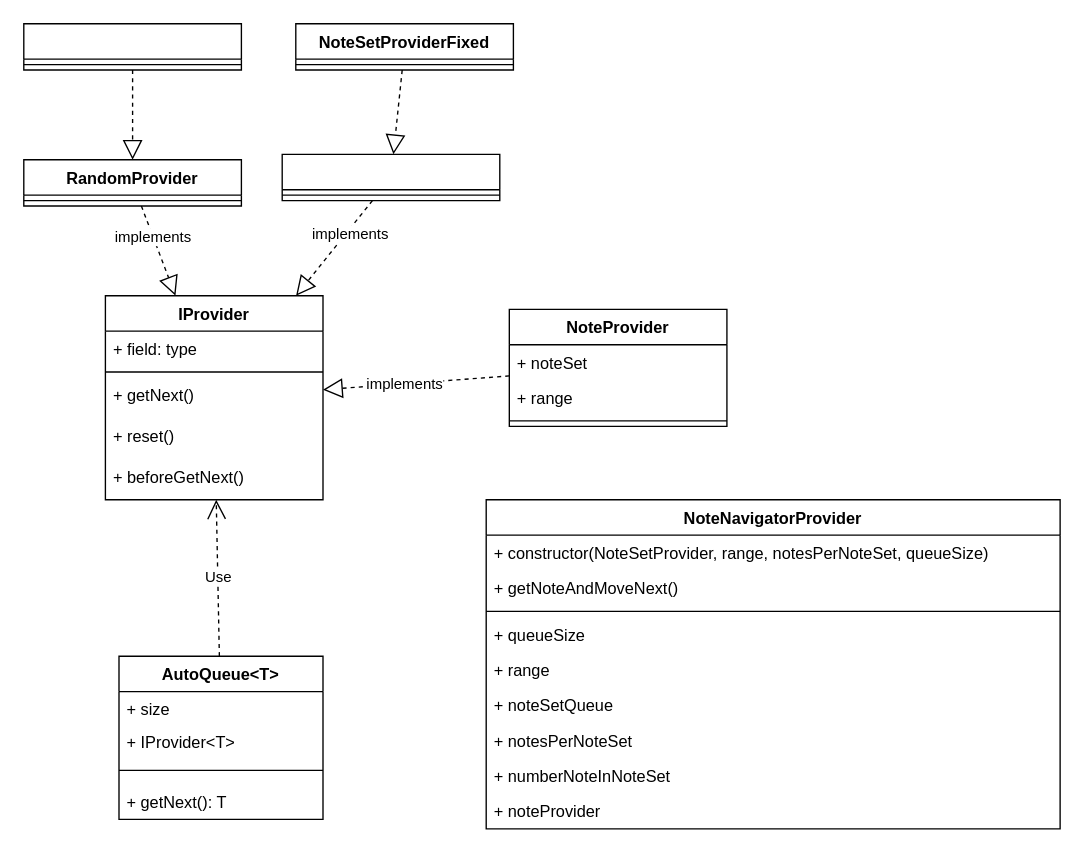
Some shapes in this 1084 by 857 pixel diagram are drawn without their labels. Here are the shapes that lost their labels. From the top down, the centre of each, then its label:
[131,46]: NoteSetProviderRandom
[390,177]: FixedProvider
